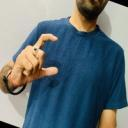hand: (13, 33, 59, 82)
